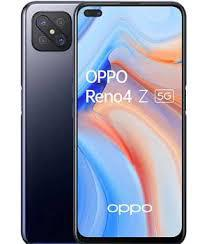Smartphone: (83, 6, 183, 240), (26, 4, 87, 243)
